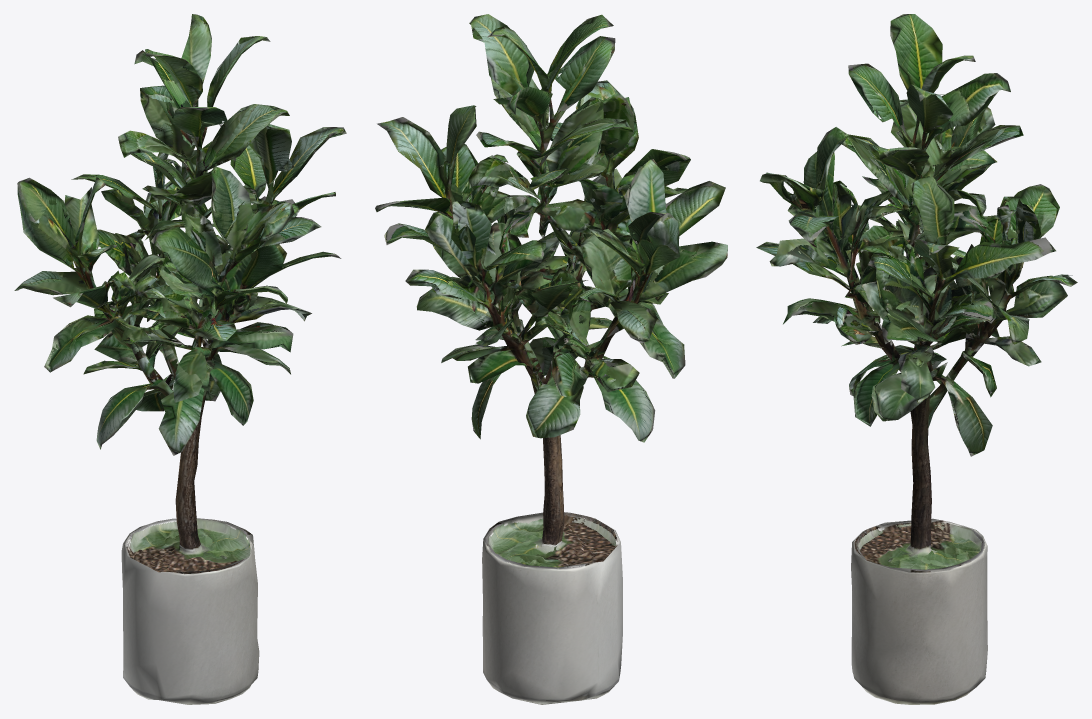
File: plant.glb
The picture shows the model from 3 angles, left to right: view 1: azimuth 30°, elevation 25°; view 2: azimuth 150°, elevation 25°; view 3: azimuth 270°, elevation 25°; orthographic projection. The views are drawn at different scales.
Visible parts, largest first — view 1: texture_mapping; view 2: texture_mapping; view 3: texture_mapping.
Boxes of the visible parts, bbox=[...] form: texture_mapping: bbox=[14, 14, 346, 704]; texture_mapping: bbox=[375, 14, 727, 704]; texture_mapping: bbox=[756, 14, 1077, 704].
Bounding box in the file's own units: 0.5096 × 1.01 × 0.4571.
Materials: 1 (1 with a texture image).
